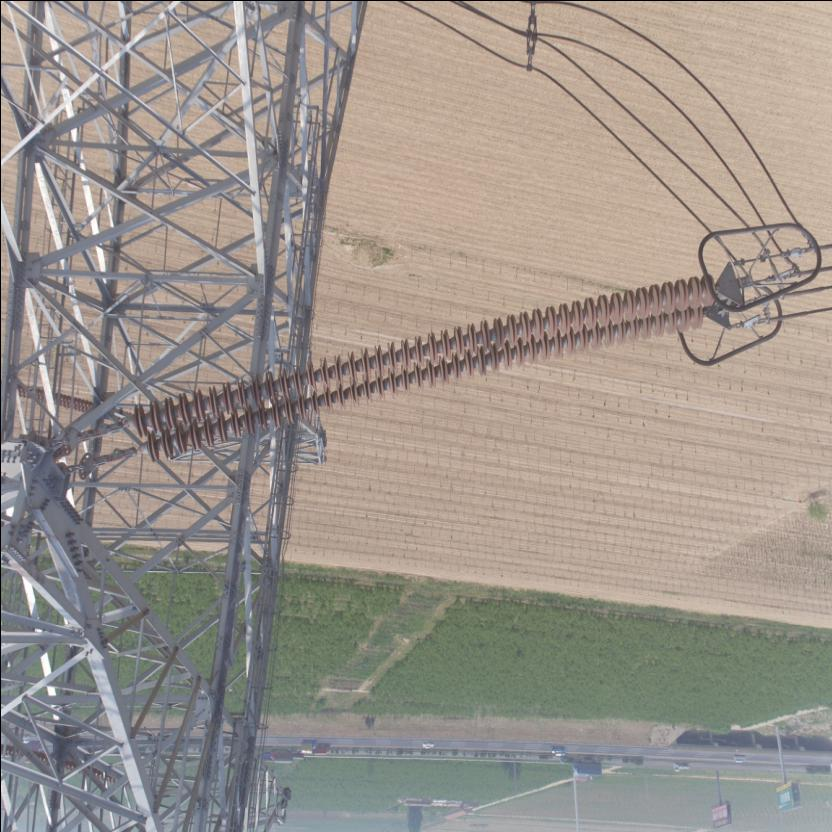insulator: (117, 270, 722, 466)
